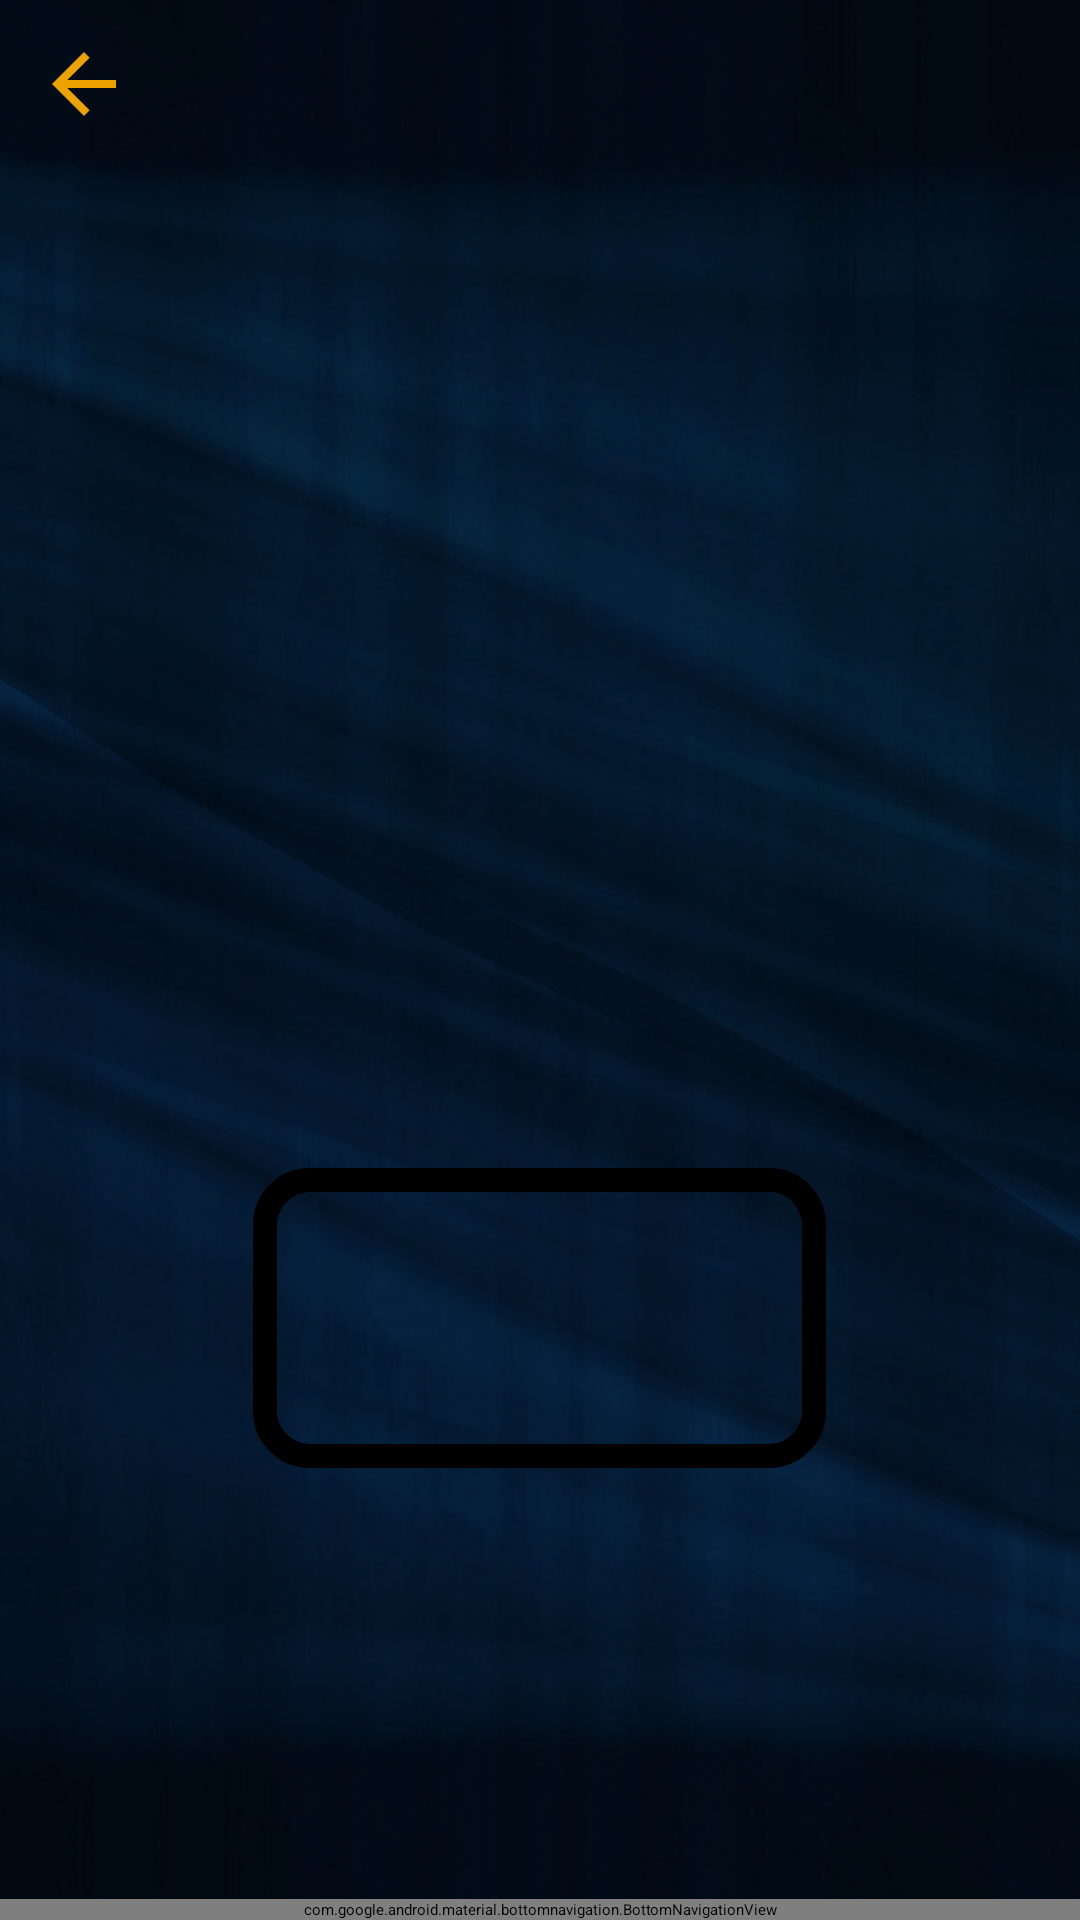

Icons on this 1080px x 1920px Android screen, each with its box as bbox=[x1, y1, x2, y2]:
back: bbox=[52, 52, 116, 116]
